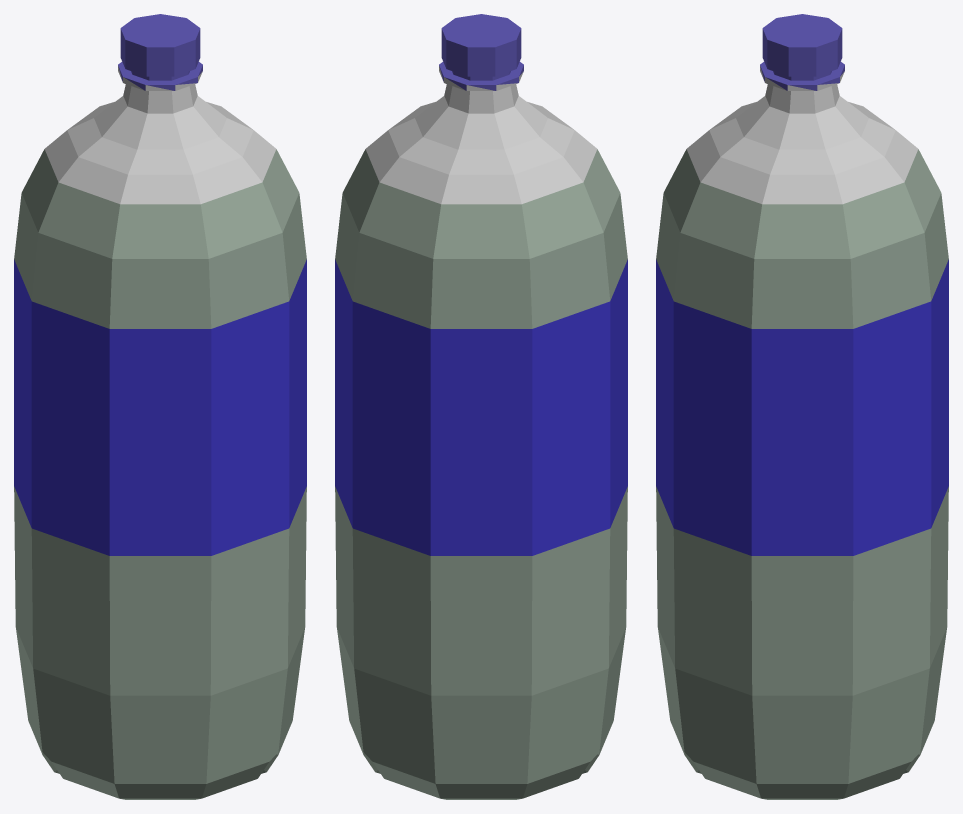
Rendered from Bottle.fbx.
3 renders of one model, left to right at view 1: azimuth 30°, elevation 25°; view 2: azimuth 150°, elevation 25°; view 3: azimuth 270°, elevation 25°, orthographic.
Parts seen in each view (by area): view 1: Object_4, Object_3, Object_2; view 2: Object_4, Object_3, Object_2; view 3: Object_4, Object_3, Object_2.
Boxes of the visible parts, x1,y1,x2,y2 form: Object_4: (14, 149, 306, 799); Object_3: (14, 259, 306, 555); Object_2: (44, 14, 276, 204); Object_4: (335, 149, 627, 799); Object_3: (335, 259, 627, 555); Object_2: (365, 14, 597, 204); Object_4: (656, 149, 948, 799); Object_3: (656, 259, 948, 555); Object_2: (686, 14, 918, 204).
Bounding box in the file's own units: 13.91 × 38.78 × 14.12.
